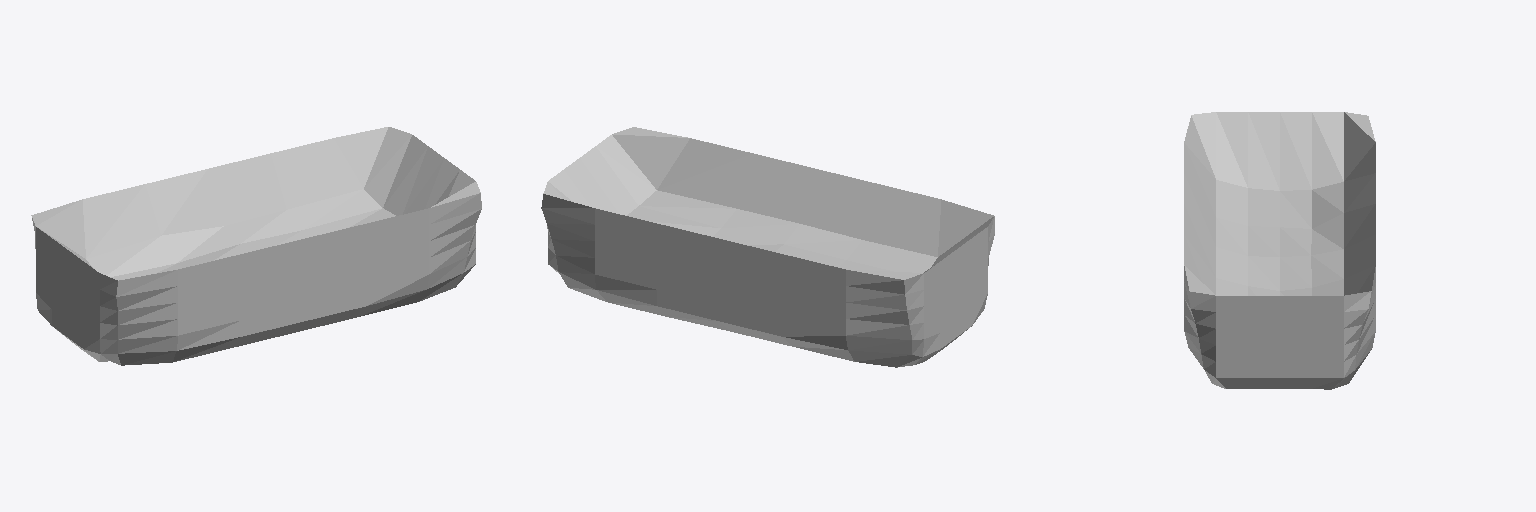
The model's file is boat.obj.
3 views of the same model, side by side, from view 1: azimuth 30°, elevation 25°; view 2: azimuth 150°, elevation 25°; view 3: azimuth 270°, elevation 25° (orthographic).
Parts seen in each view (by area): view 1: pCube3; view 2: pCube3; view 3: pCube3.
Boxes of the visible parts, x1=… form: pCube3: x1=31, y1=127, x2=481, y2=365; pCube3: x1=541, y1=127, x2=994, y2=367; pCube3: x1=1184, y1=112, x2=1375, y2=389.
Bounding box in the file's own units: 7.39 × 1.96 × 3.25.